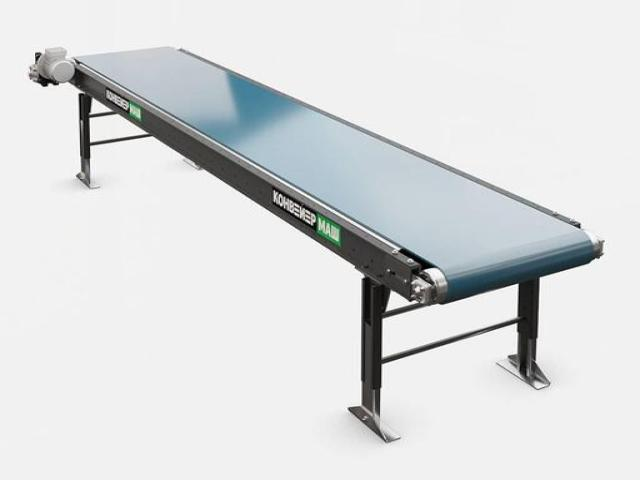conveyor: (56, 41, 608, 308)
